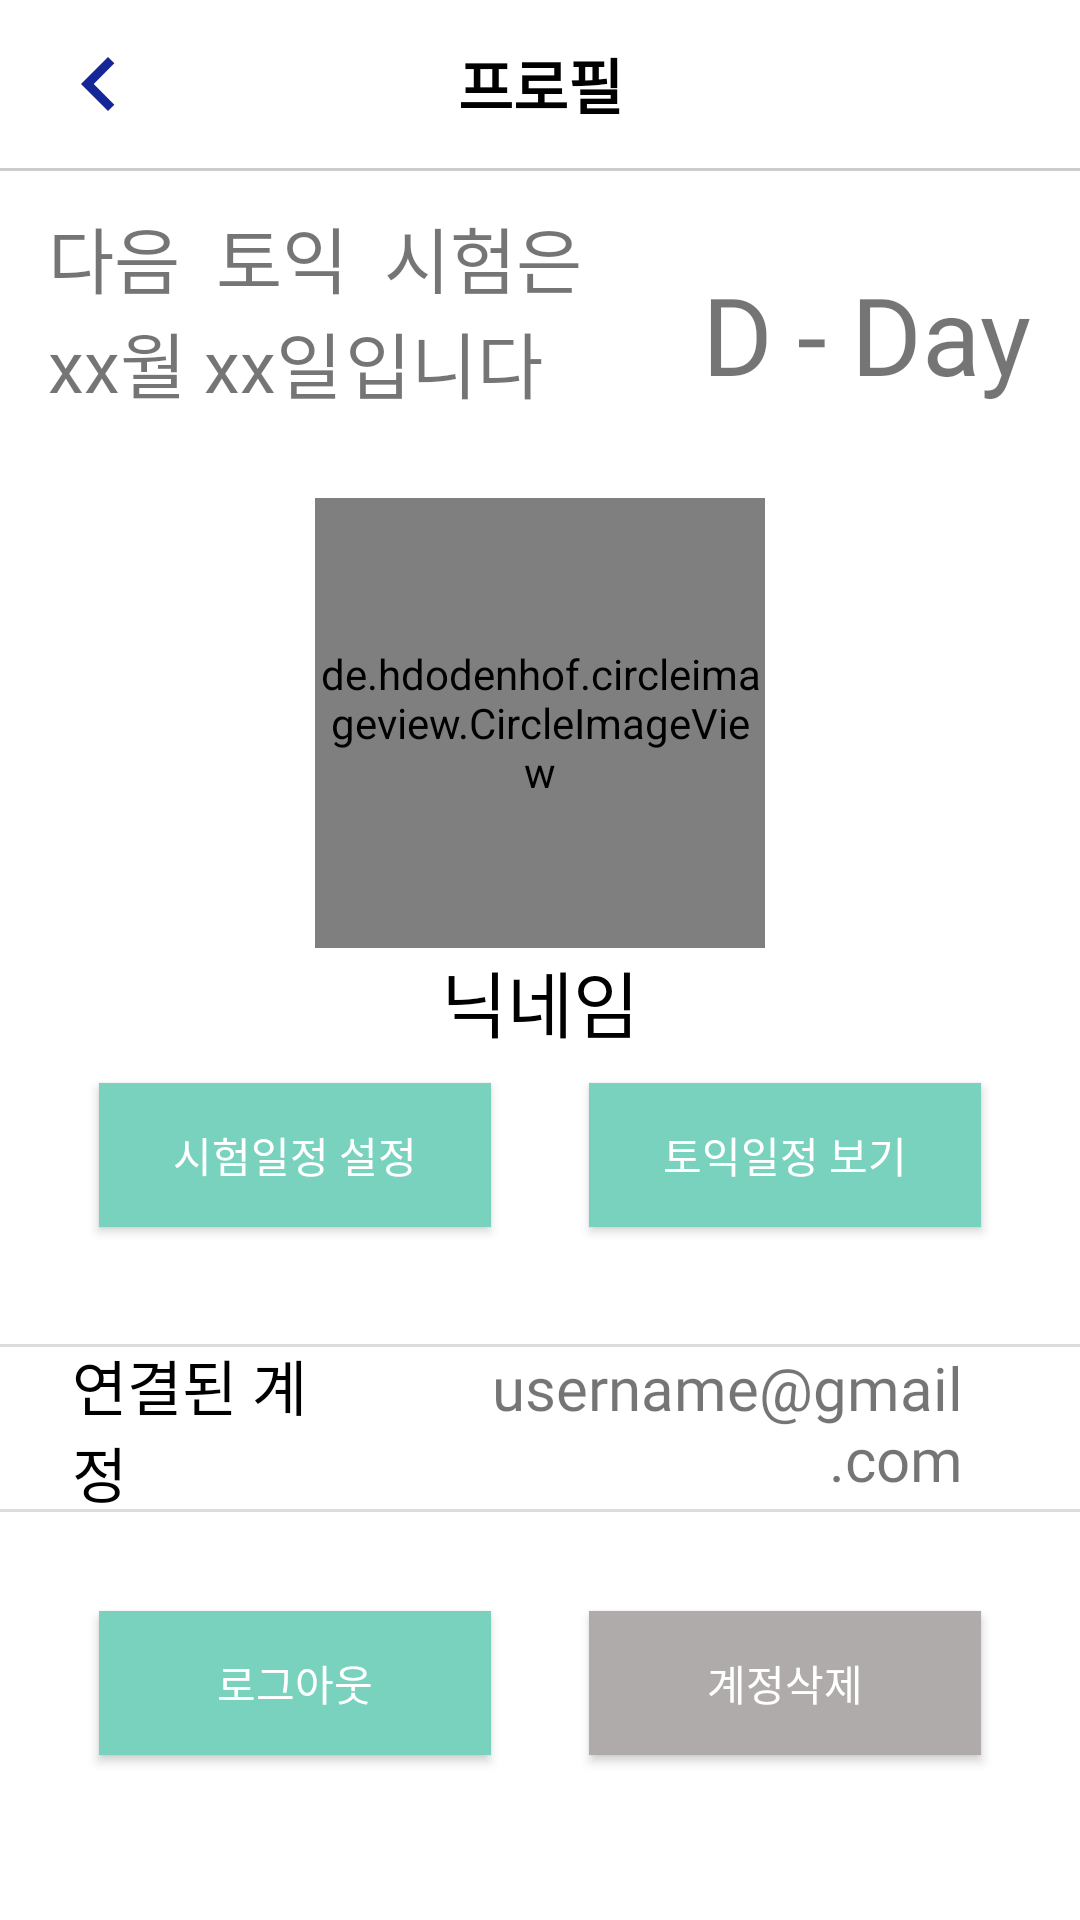

Point at icon controls on the screen. Image size 1080px×1920px, points as point (x, y).
left: point (98, 84)
